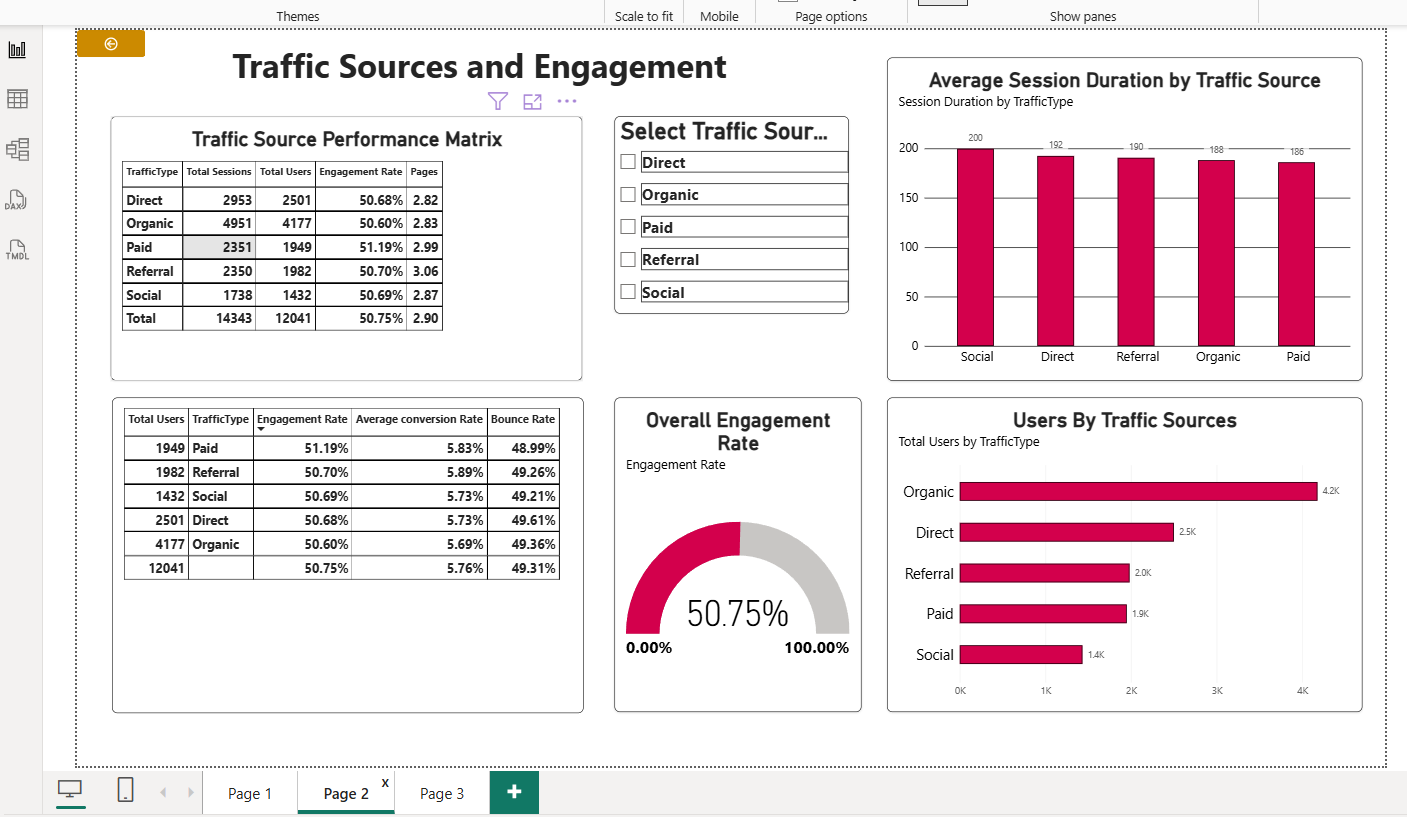

Layout of this report page (visuals, bound fields, positions):
{"tool":"powerbi","page":{"name":"Page 2","canvas":[1920,1080],"ordinal":1},"visuals":[{"type":"textbox","box":[49.8,18.5,1081.8,79.4],"z":0},{"type":"clusteredBarChart","title":"Users By Traffic Sources","fields":{"Category":["website_traffic_dashboard_project_ready.TrafficType"],"Y":["website_traffic_dashboard_project_ready.Total Users"]},"box":[1188.2,539.8,697.4,461.9],"z":1000},{"type":"lineClusteredColumnComboChart","title":"Average Session Duration by Traffic Source","fields":{"Category":["website_traffic_dashboard_project_ready.TrafficType"],"Y":["website_traffic_dashboard_project_ready.Average Session"]},"box":[1188.2,39.8,697.4,474.6],"z":2000},{"type":"slicer","fields":{"Values":["website_traffic_dashboard_project_ready.TrafficType"]},"box":[787.9,126.8,344.2,289.8],"z":3000},{"type":"pivotTable","title":"Traffic Source Performance Matrix","fields":{"Rows":["website_traffic_dashboard_project_ready.TrafficType"],"Values":["website_traffic_dashboard_project_ready.Total Sessions","website_traffic_dashboard_project_ready.Total Users","website_traffic_dashboard_project_ready.Average Engagement Rate","website_traffic_dashboard_project_ready.Average Page"]},"box":[49.8,127.4,692.3,387.7],"z":4000},{"type":"actionButton","box":[0,0,100,40],"z":5000},{"type":"tableEx","fields":{"Values":["website_traffic_dashboard_project_ready.Total Users","website_traffic_dashboard_project_ready.TrafficType","website_traffic_dashboard_project_ready.Average Engagement Rate","website_traffic_dashboard_project_ready.Average Conversion","website_traffic_dashboard_project_ready.Average Bounce"]},"box":[50.7,539.8,692.3,463.4],"z":6000},{"type":"gauge","title":"Overall Engagement Rate","fields":{"Y":["website_traffic_dashboard_project_ready.Average Engagement Rate"]},"box":[787.9,539.8,362.3,461.9],"z":7000}]}

Visuals, with their boxes on the page's 1920x1080 design canvas (x1, y1, x2, y2). These are canvas units, not pixel positions in the 1407x817 screenshot, which may show the page scaled, cropped or inside an application window:
textbox: 50,18,1132,98
"Users By Traffic Sources" clusteredBarChart: 1188,540,1886,1002
"Average Session Duration by Traffic Source" lineClusteredColumnComboChart: 1188,40,1886,514
slicer - website_traffic_dashboard_project_ready.TrafficType: 788,127,1132,417
"Traffic Source Performance Matrix" pivotTable: 50,127,742,515
actionButton: 0,0,100,40
tableEx - website_traffic_dashboard_project_ready.Total Users x website_traffic_dashboard_project_ready.TrafficType: 51,540,743,1003
"Overall Engagement Rate" gauge: 788,540,1150,1002
